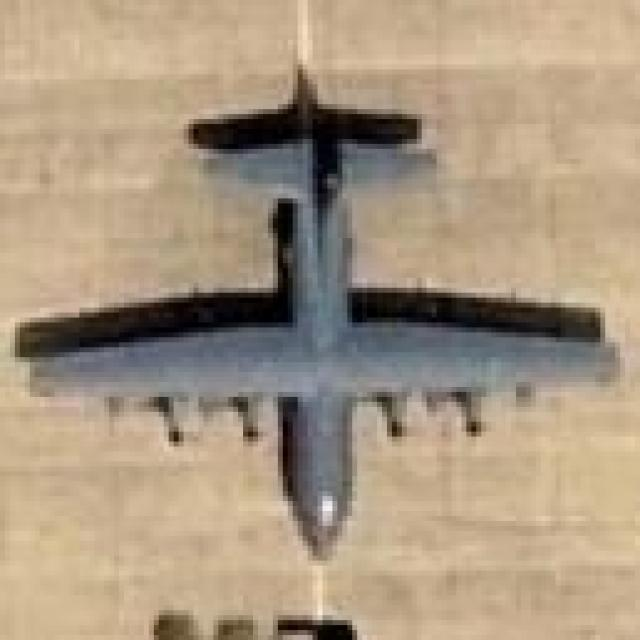C-130_TopDown: (11, 60, 626, 561)
